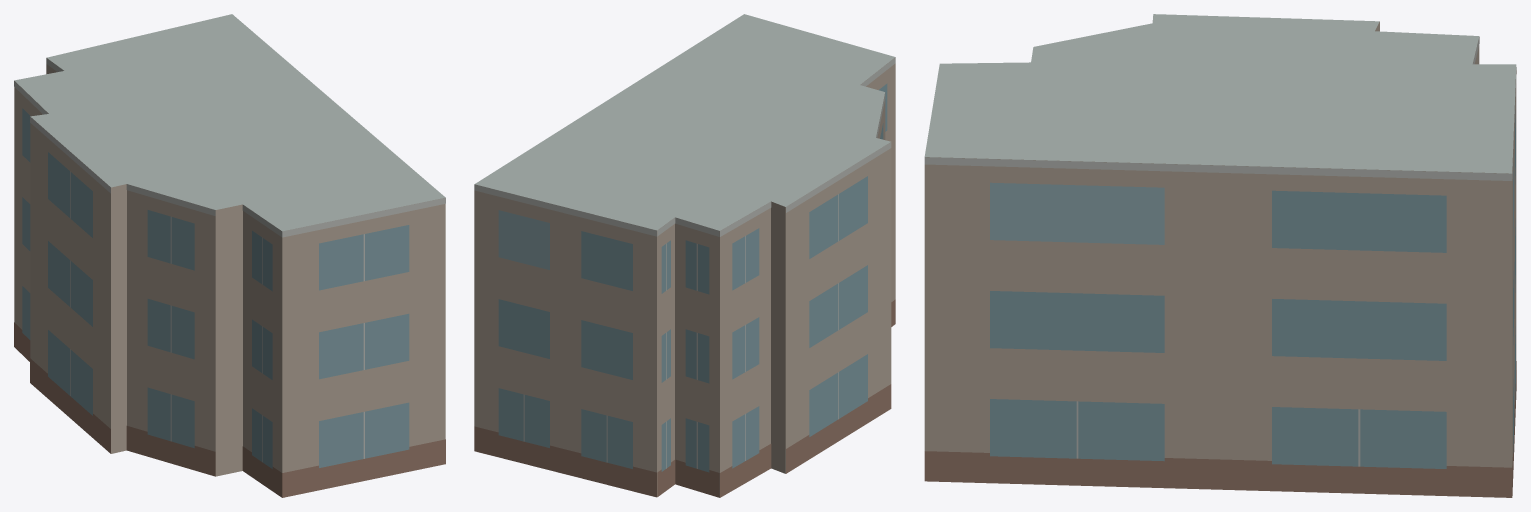
File: survey-upis-32764221.glb
The picture shows the model from 3 angles, left to right: view 1: azimuth 30°, elevation 25°; view 2: azimuth 150°, elevation 25°; view 3: azimuth 270°, elevation 25°; orthographic projection. The views are drawn at different scales.
Parts seen in each view (by area): view 1: survey-upis-32764221.tmp; view 2: survey-upis-32764221.tmp; view 3: survey-upis-32764221.tmp.
Boxes of the visible parts, x1,y1,x2,y2 form: survey-upis-32764221.tmp: [14, 14, 445, 497]; survey-upis-32764221.tmp: [474, 14, 895, 497]; survey-upis-32764221.tmp: [924, 14, 1516, 497].
Bounding box in the file's own units: 11.09 × 10.5 × 17.38.
